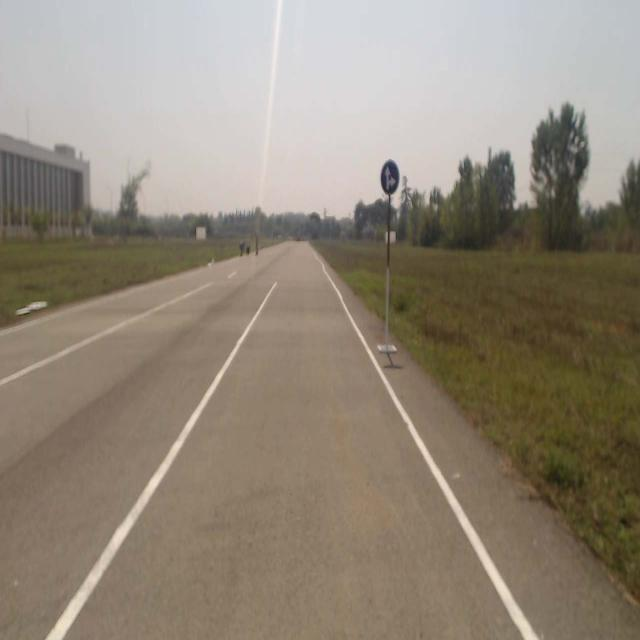ilerisag: (382, 159, 401, 197)
